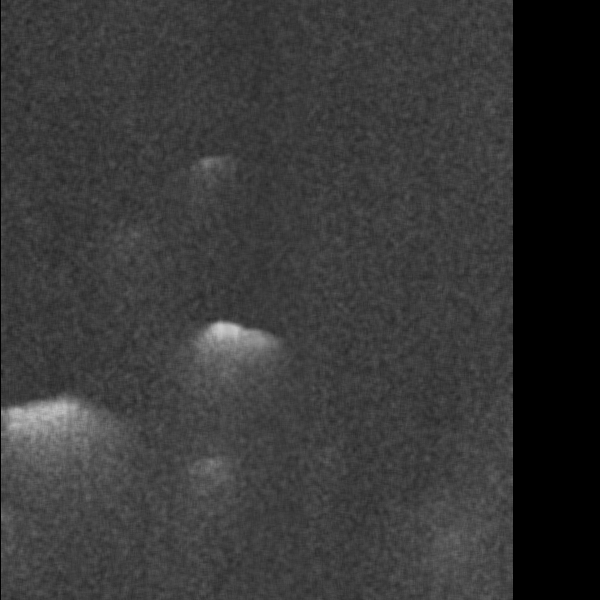spark: (327, 446, 367, 499)
